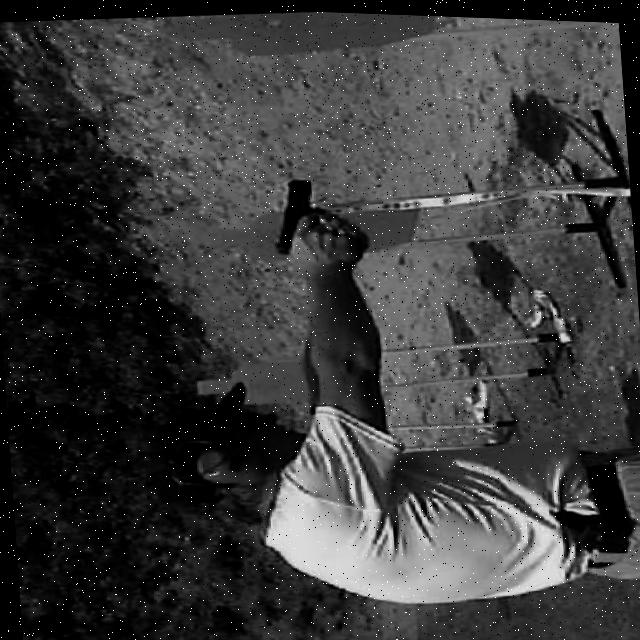pistol: (268, 173, 328, 255)
